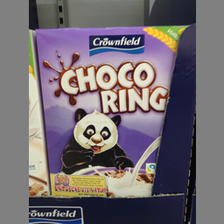cereal: (36, 25, 190, 196)
